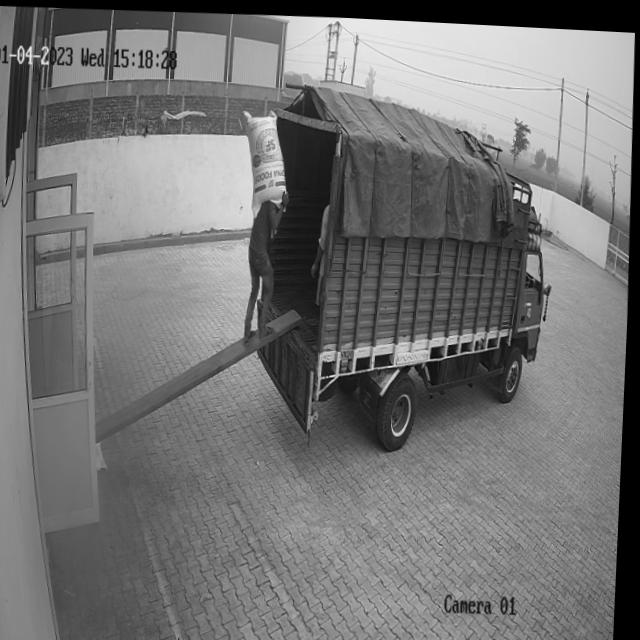sack: (240, 105, 291, 215)
